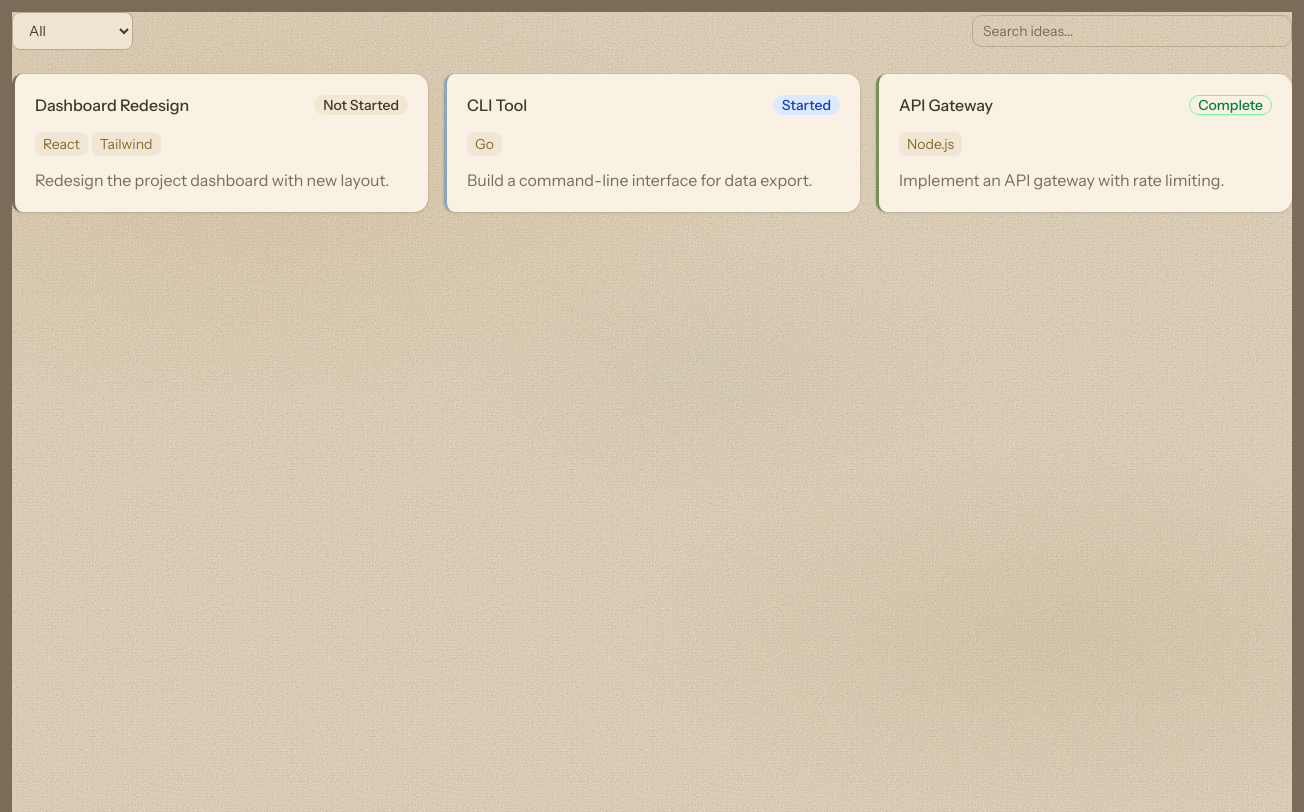
Test case: IdeasGrid › filters by not-started status
Select "Not Started" in the dropdown named "Filter by status" at (72, 31), box x1=12 y1=12 x2=133 y2=50
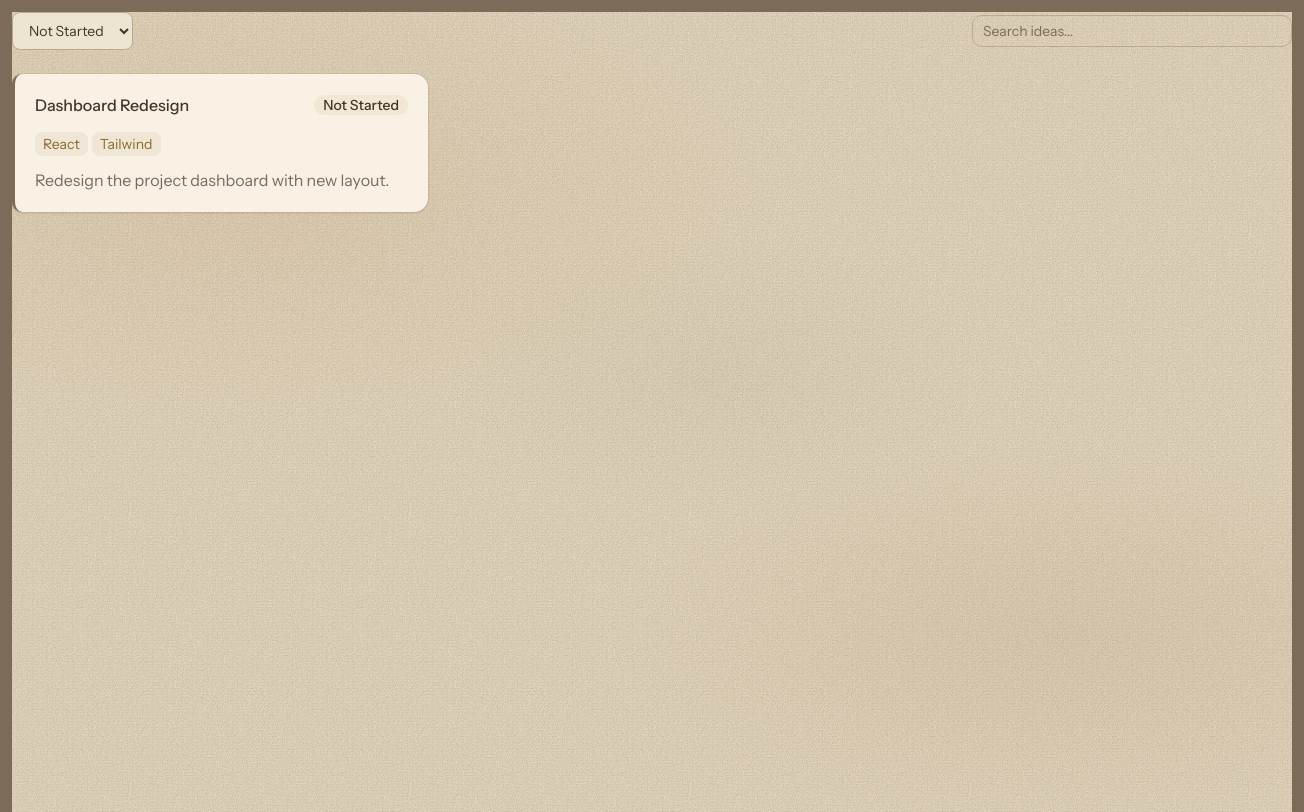
Expected: the text "Dashboard Redesign" is shown, x1=35 y1=94 x2=189 y2=116
Expected: the link "CLI Tool" is gone
Expected: the link "API Gateway" is gone
